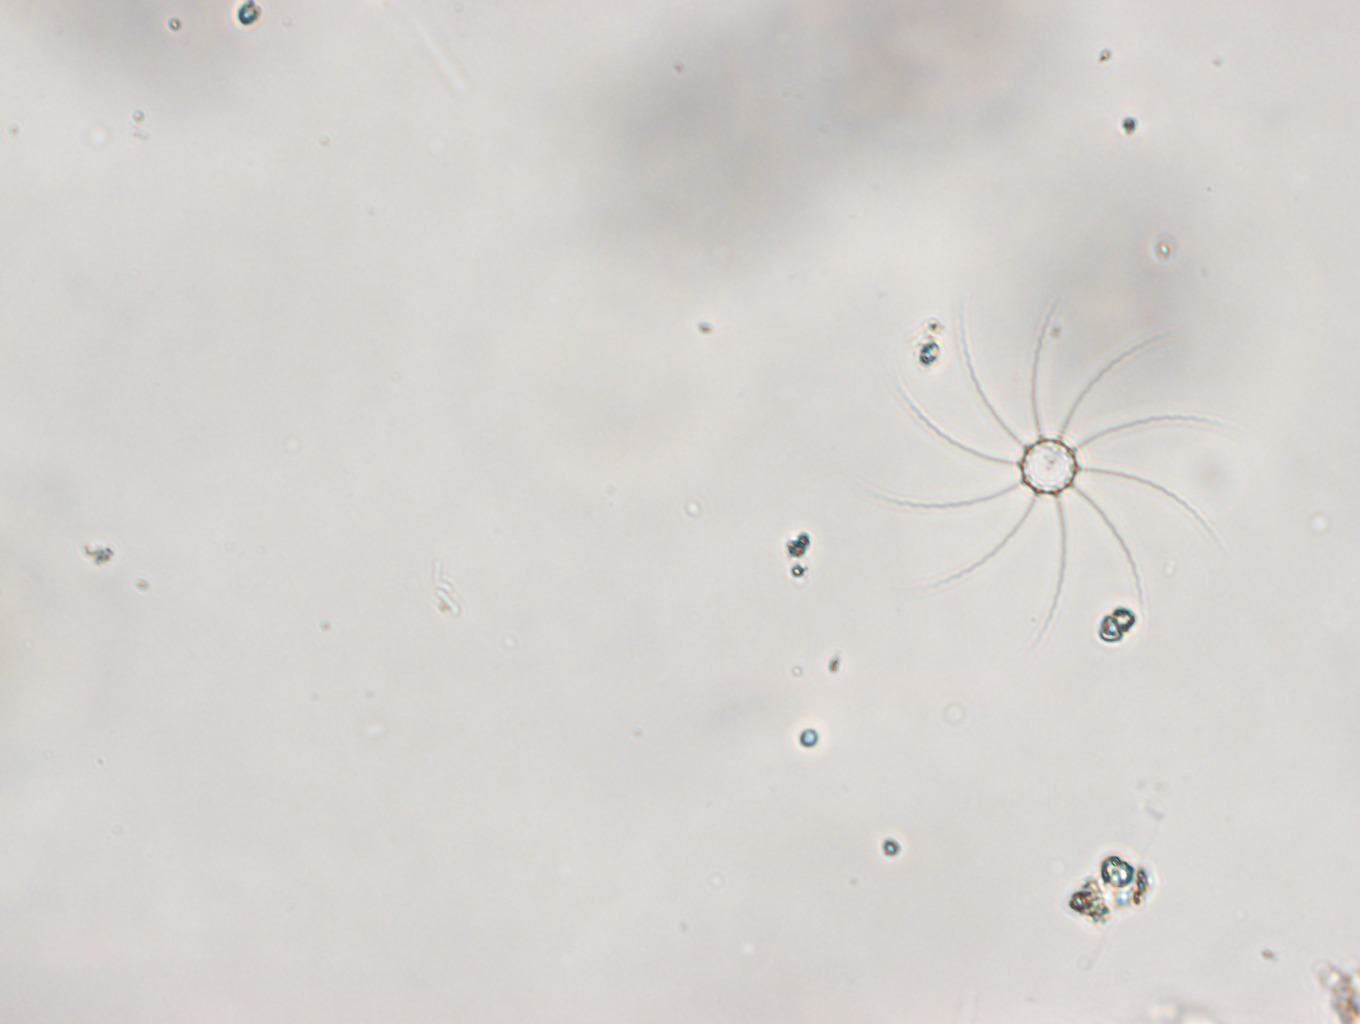bacteriastrum: (863, 288, 1246, 653)
